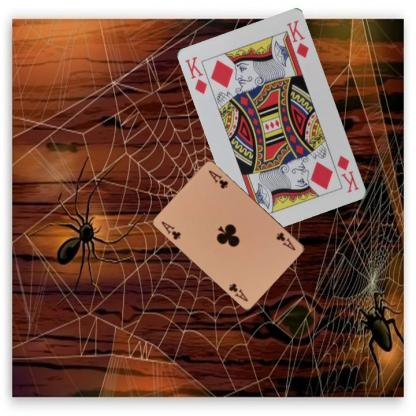Ac: (274, 229, 297, 252), (159, 218, 182, 241)
Kd: (334, 152, 360, 194), (183, 54, 209, 96)
